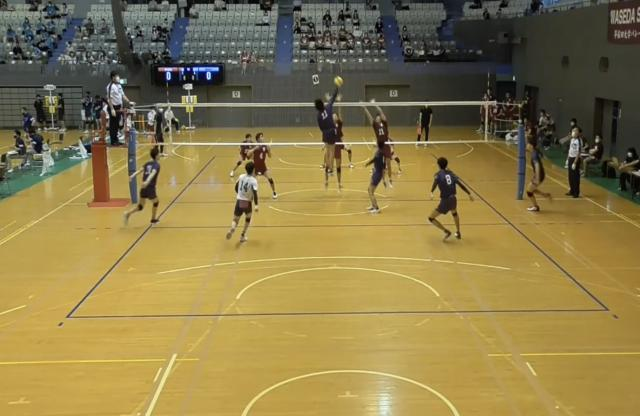spike: (312, 74, 345, 177)
